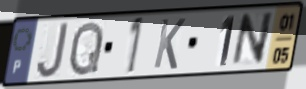1: (126, 15, 146, 77), (219, 14, 236, 68)
J: (35, 20, 70, 80)
K: (151, 17, 188, 71)
N: (229, 10, 276, 69)
Q: (67, 19, 106, 78)
